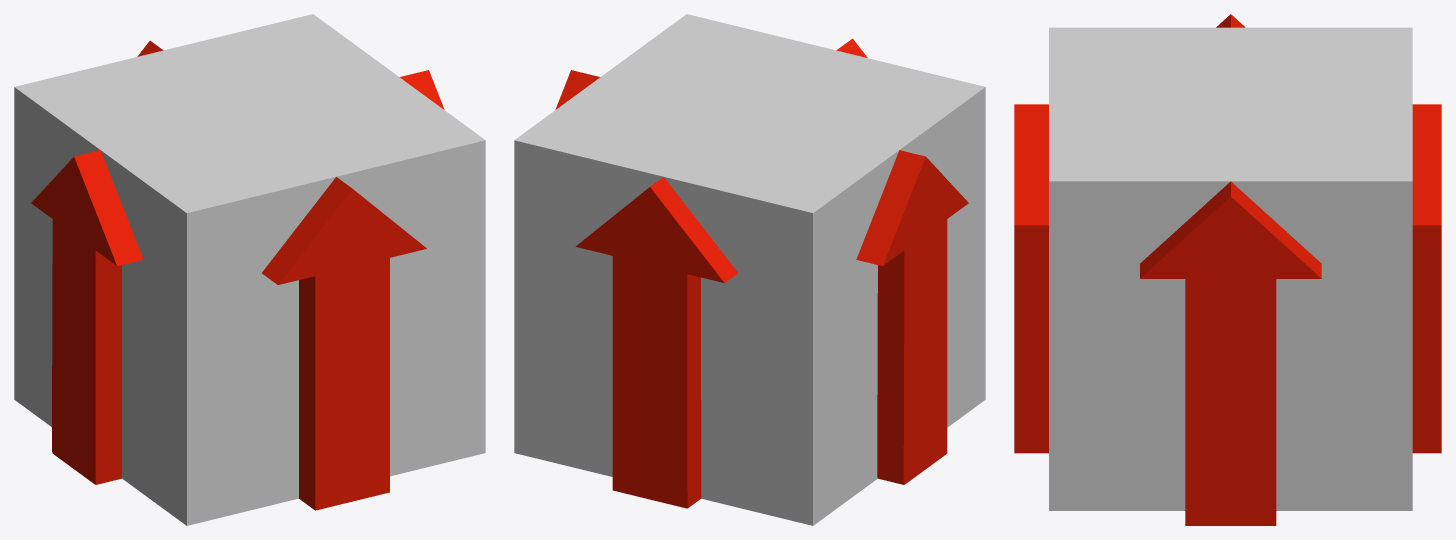
File: Not_Up_cube.fbx
The picture shows the model from 3 angles, left to right: view 1: azimuth 30°, elevation 25°; view 2: azimuth 150°, elevation 25°; view 3: azimuth 270°, elevation 25°; orthographic projection. The views are drawn at different scales.
Visible parts, largest first — view 1: Cube; view 2: Cube; view 3: Cube.
Part boxes in pixels (<box>): Cube: <box>14,14,485,525</box>; Cube: <box>514,14,985,525</box>; Cube: <box>1014,14,1441,525</box>.
Size of the model in its own units: 475 by 400 by 470.
